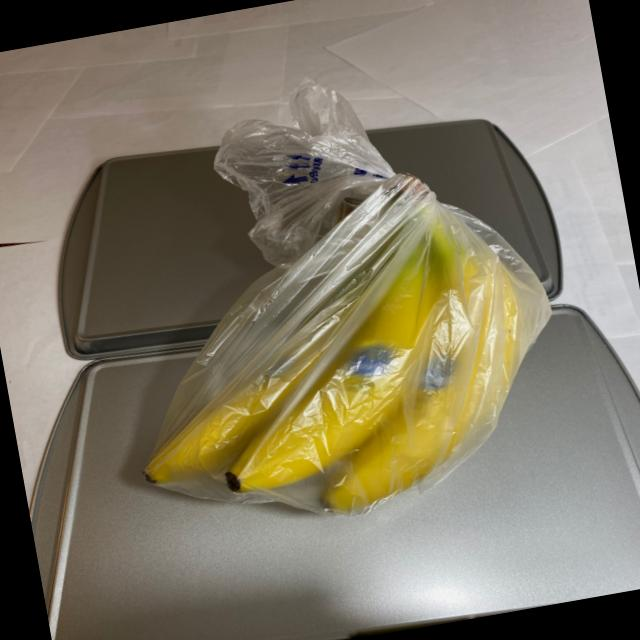banana: (92, 148, 569, 557)
